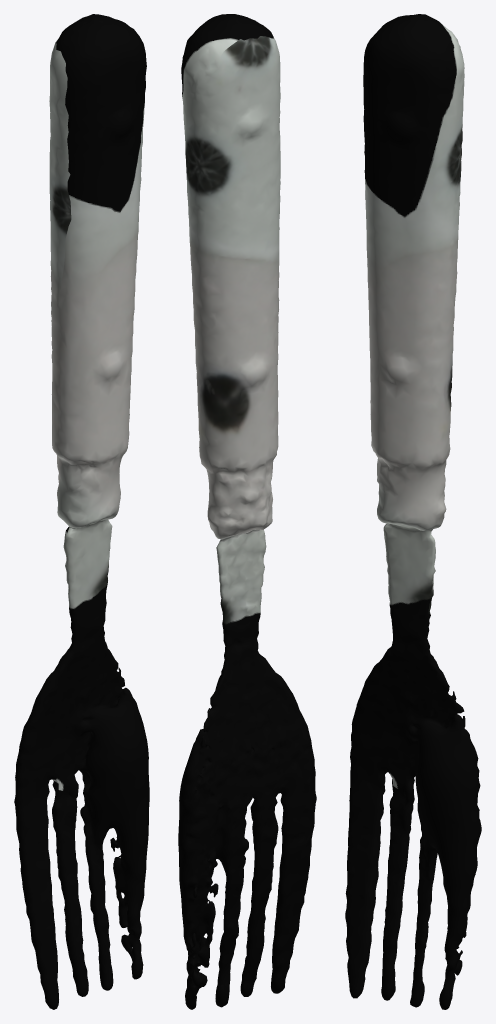
3 views of the same model, side by side, from view 1: azimuth 30°, elevation 25°; view 2: azimuth 210°, elevation 25°; view 3: azimuth 330°, elevation 25° (orthographic). The views are drawn at different scales.
Visible parts, largest first — view 1: textured.025; view 2: textured.025; view 3: textured.025.
Part boxes in pixels (x1=…): textured.025: x1=14, y1=14, x2=149, y2=1009; textured.025: x1=178, y1=14, x2=316, y2=1009; textured.025: x1=345, y1=14, x2=481, y2=1009.
Bounding box in the file's own units: 0.0274 × 0.1977 × 0.0154.
